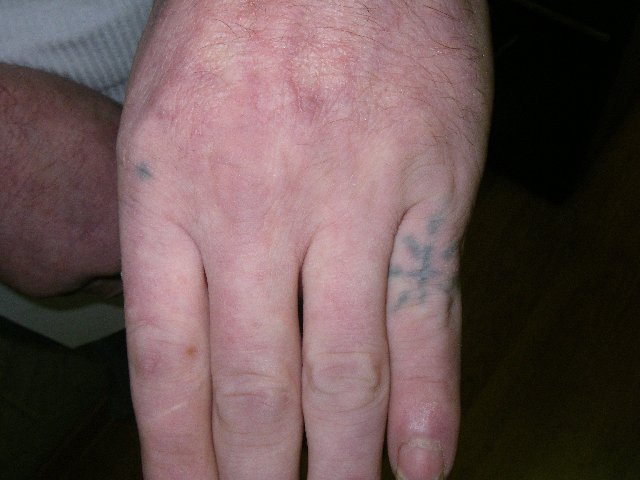tatu9_krest: (410, 244, 443, 293)
